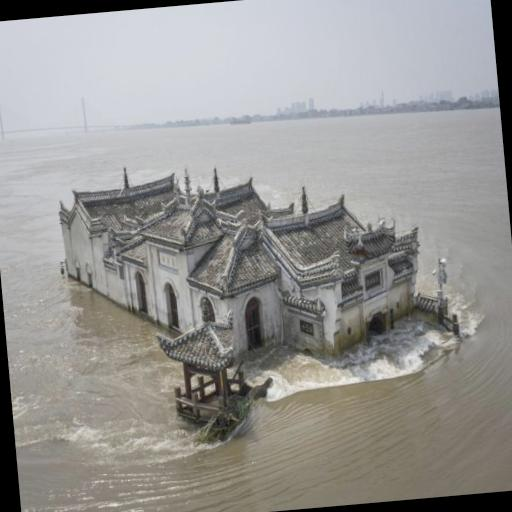flood: (0, 109, 512, 512)
house: (50, 140, 436, 452)
